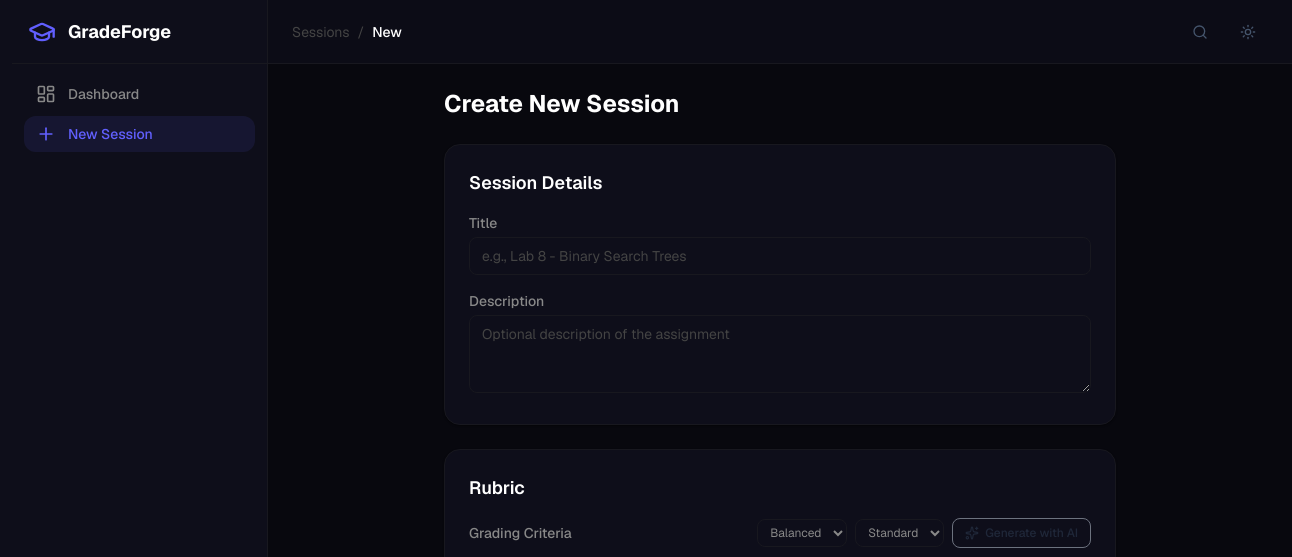
Create Session Page - AI Rubric Generation › generate button is enabled when description has text
Type "Binary search tree implementation" into the text box with placeholder "Optional description of the assignment".
click(780, 354); type("Binary search tree implementation")  # box [469, 315, 1091, 393]
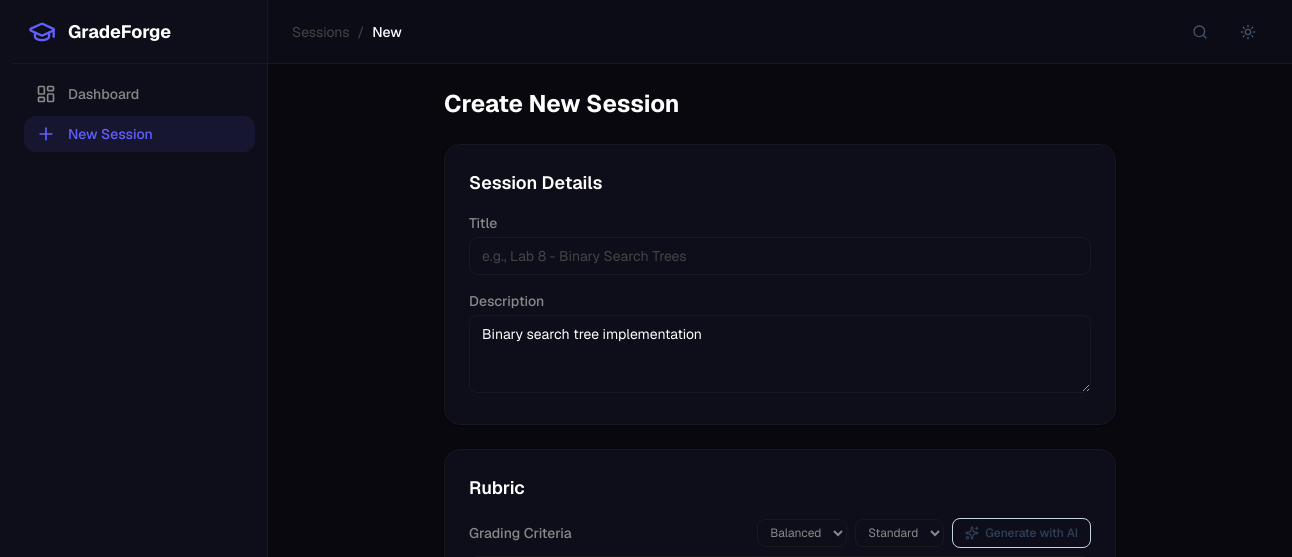
expect the button with test id "generate-rubric-btn" is enabled: met, box [952, 518, 1091, 548]
